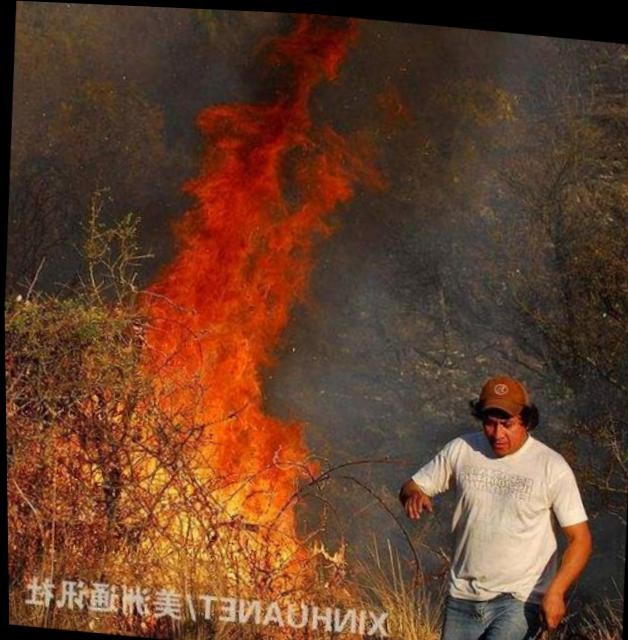fire: (41, 108, 377, 625)
